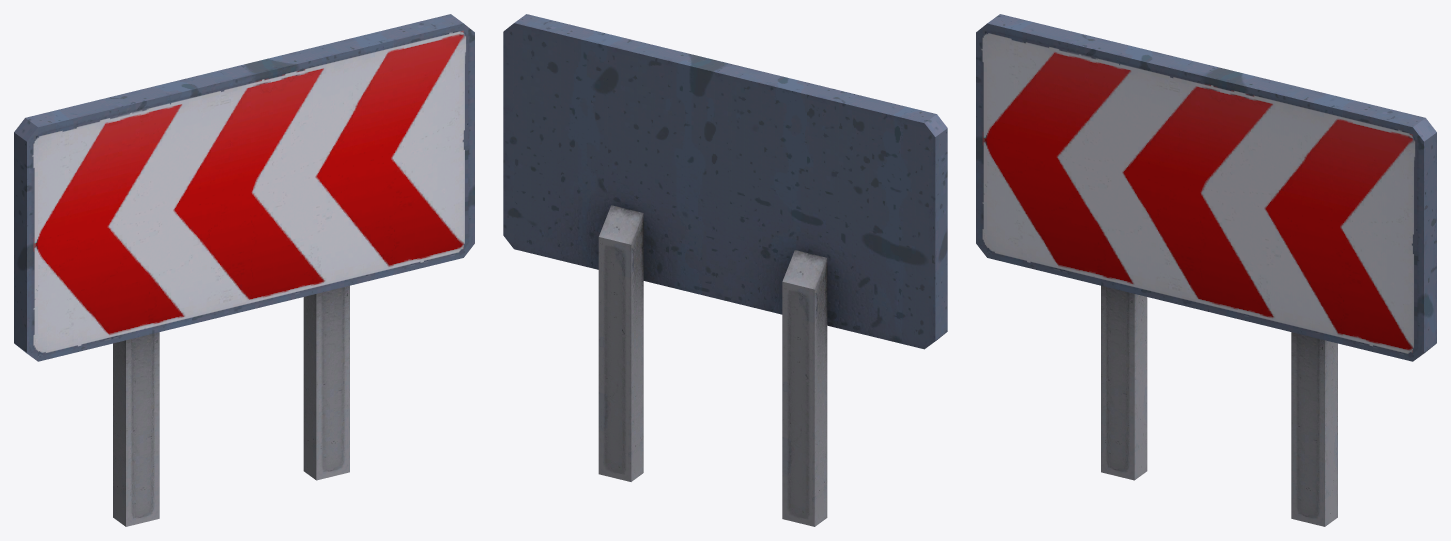
File: SignCurveLeft.gltf
3 renders of one model, left to right at view 1: azimuth 30°, elevation 25°; view 2: azimuth 150°, elevation 25°; view 3: azimuth 330°, elevation 25°, orthographic. The views are drawn at different scales.
Visible parts, largest first — view 1: Schild_Kurve_links; view 2: Schild_Kurve_links; view 3: Schild_Kurve_links.
Part boxes in pixels (x1,y1,x2,y2): Schild_Kurve_links: (14, 14, 474, 526); Schild_Kurve_links: (503, 14, 947, 526); Schild_Kurve_links: (976, 14, 1436, 526).
Bounding box in the file's own units: 6.1 × 5.64 × 0.6096.
Materials: 1 (1 with a texture image).
